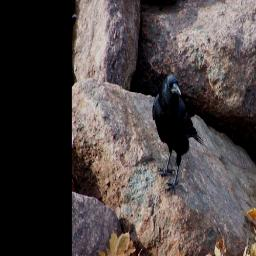Crow: (152, 69, 208, 197)
